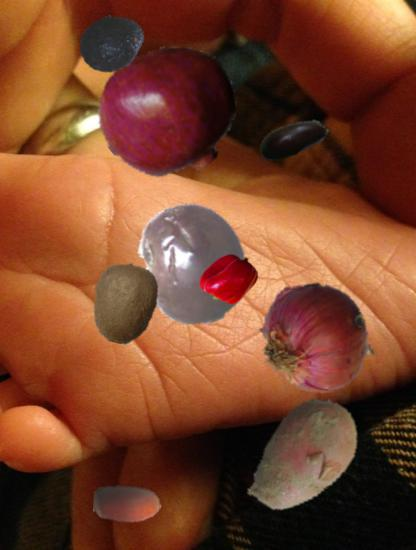Avocado: (78, 8, 146, 76)
Eggplant: (257, 102, 331, 176)
Hazelnut: (93, 471, 162, 540)
Kiwi: (84, 262, 167, 345)
Onion: (245, 275, 374, 404)
Passion: (129, 200, 255, 326)
Pepper: (202, 251, 257, 306)
Pomegranate: (99, 41, 240, 182)
Potato: (241, 393, 370, 522)
